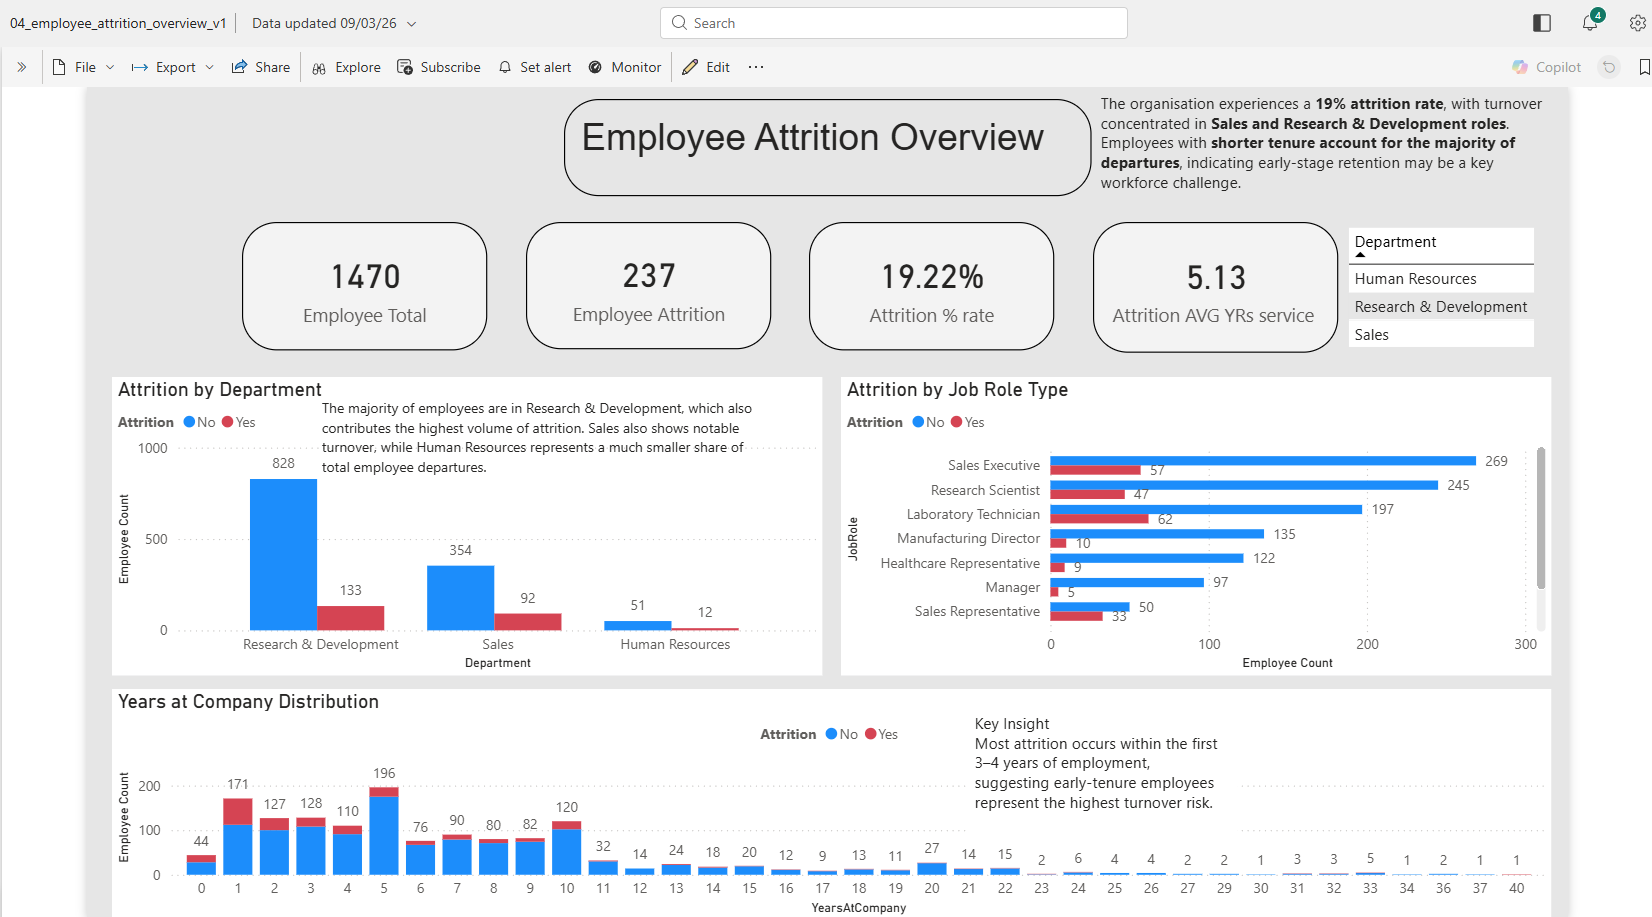

What the dashboard file says about the page in this screenshot:
{"tool":"powerbi","page":{"name":"Overview 1","canvas":[1280,720],"ordinal":0},"visuals":[{"type":"textbox","box":[412.1,10,455.7,84.3],"z":0},{"type":"clusteredColumnChart","title":"Attrition by Department","fields":{"Category":["attrition_clean_v1.Department"],"Series":["attrition_clean_v1.Attrition"],"Y":["attrition_clean_v1.Employee Count"]},"box":[21.9,250.9,614.3,258],"z":0,"group":"g2"},{"type":"card","fields":{"Values":["attrition_clean_v1.Employee Count"]},"box":[134,116.9,212.4,111.2],"z":1000},{"type":"clusteredBarChart","title":"Attrition by Job Role Type","fields":{"Category":["attrition_clean_v1.JobRole"],"Series":["attrition_clean_v1.Attrition"],"Y":["attrition_clean_v1.Employee Count"]},"box":[651.9,250.9,614.3,258],"z":1000,"group":"g2"},{"type":"card","fields":{"Values":["attrition_clean_v1.Employee Count"]},"box":[379.2,116.9,212.4,109.8],"z":2000},{"type":"card","fields":{"Values":["attrition_clean_v1.Employee Count % difference from No 2"]},"box":[624.3,116.9,212.4,111.2],"z":3000},{"type":"card","fields":{"Values":["Avg(attrition_clean_v1.YearsAtCompany)"]},"box":[869.5,116.9,212.4,112.6],"z":4000},{"type":"tableEx","fields":{"Values":["attrition_clean_v1.Department"]},"box":[1084.7,116.9,185.3,141.1],"z":5000},{"type":"group","id":"g1","title":"Group 1","box":[21.9,250.9,1244.4,258],"z":6000},{"type":"columnChart","title":"Years at Company Distribution","fields":{"Category":["attrition_clean_v1.YearsAtCompany"],"Y":["attrition_clean_v1.Employee Count"],"Series":["attrition_clean_v1.Attrition"]},"box":[21.4,520.3,1244.4,199.6],"z":7000},{"type":"group","id":"g2","title":"Group 2","box":[21.9,250.9,1244.4,258],"z":7001,"group":"g1"},{"type":"textbox","box":[762.5,535.7,231.6,112.2],"z":8000},{"type":"textbox","box":[198.1,262.7,394.1,131.4],"z":9000},{"type":"textbox","box":[871.4,0,408.4,121.8],"z":10000}]}

Visuals, with their boxes on the page's 1280x720 design canvas (x1, y1, x2, y2). These are canvas units, not pixel positions in the 1652x917 screenshot, which may show the page scaled, cropped or inside an application window:
textbox: {"left": 412, "top": 10, "right": 868, "bottom": 94}
"Attrition by Department" clusteredColumnChart: {"left": 22, "top": 251, "right": 636, "bottom": 509}
card - attrition_clean_v1.Employee Count: {"left": 134, "top": 117, "right": 346, "bottom": 228}
"Attrition by Job Role Type" clusteredBarChart: {"left": 652, "top": 251, "right": 1266, "bottom": 509}
card - attrition_clean_v1.Employee Count: {"left": 379, "top": 117, "right": 592, "bottom": 227}
card - attrition_clean_v1.Employee Count % difference from No 2: {"left": 624, "top": 117, "right": 837, "bottom": 228}
card - Avg(attrition_clean_v1.YearsAtCompany): {"left": 870, "top": 117, "right": 1082, "bottom": 230}
tableEx - attrition_clean_v1.Department: {"left": 1085, "top": 117, "right": 1270, "bottom": 258}
"Group 1" group: {"left": 22, "top": 251, "right": 1266, "bottom": 509}
"Years at Company Distribution" columnChart: {"left": 21, "top": 520, "right": 1266, "bottom": 720}
"Group 2" group: {"left": 22, "top": 251, "right": 1266, "bottom": 509}
textbox: {"left": 762, "top": 536, "right": 994, "bottom": 648}
textbox: {"left": 198, "top": 263, "right": 592, "bottom": 394}
textbox: {"left": 871, "top": 0, "right": 1280, "bottom": 122}
